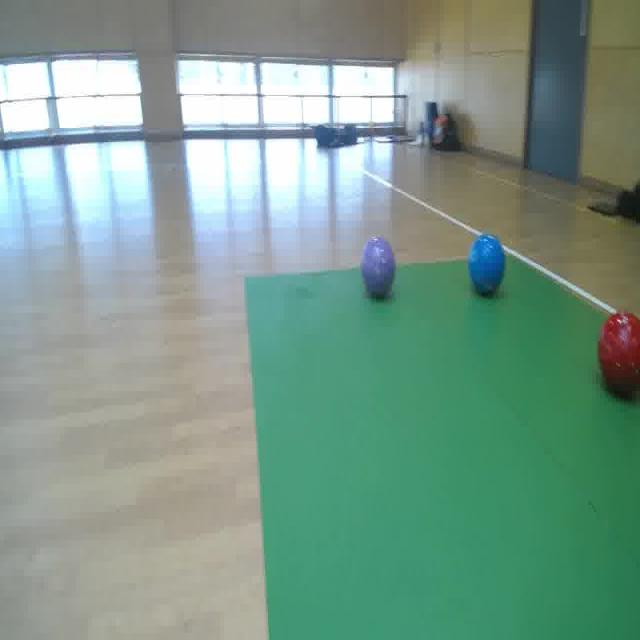blue_ball: (466, 223, 512, 298)
purple_ball: (357, 228, 405, 308)
red_ball: (592, 300, 640, 404)
